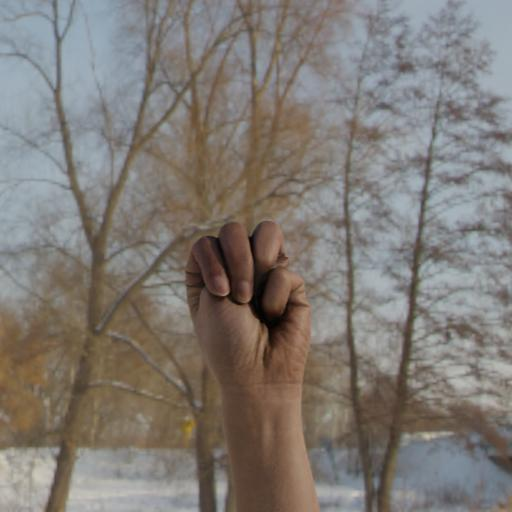M: (169, 208, 337, 512)
